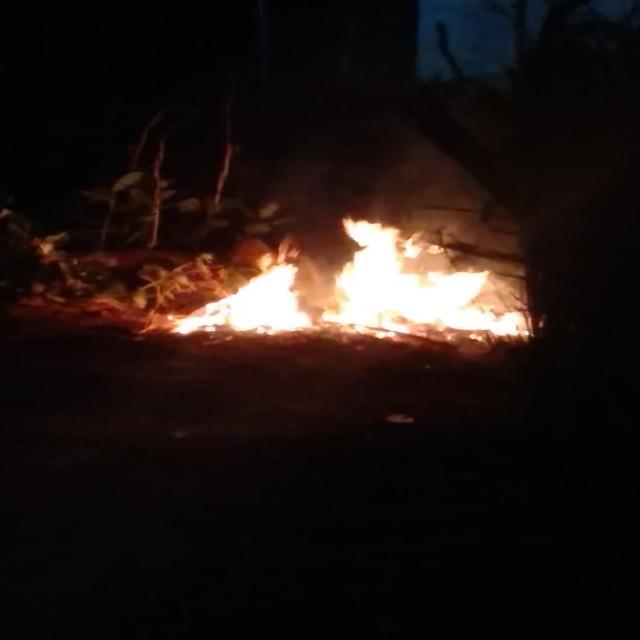firerotation: (166, 210, 534, 340)
